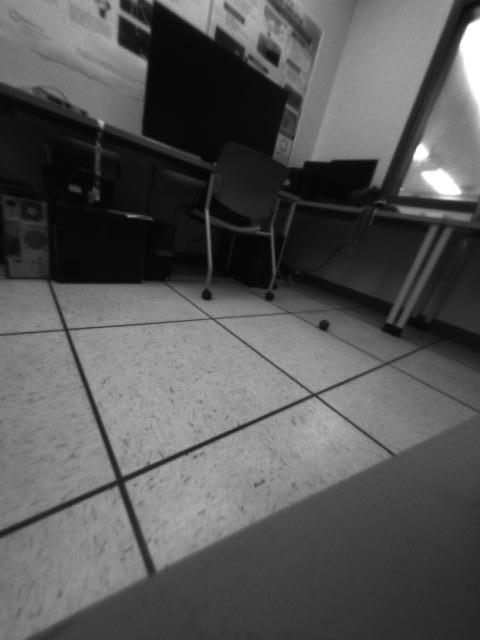dogtoy: (316, 311, 337, 338)
